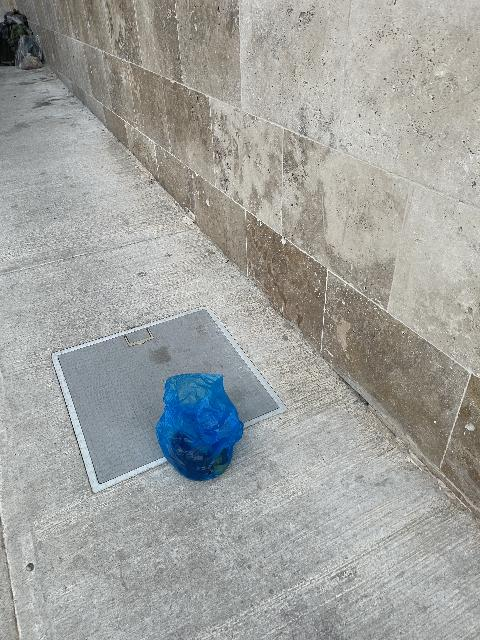Other: (156, 373, 243, 480)
